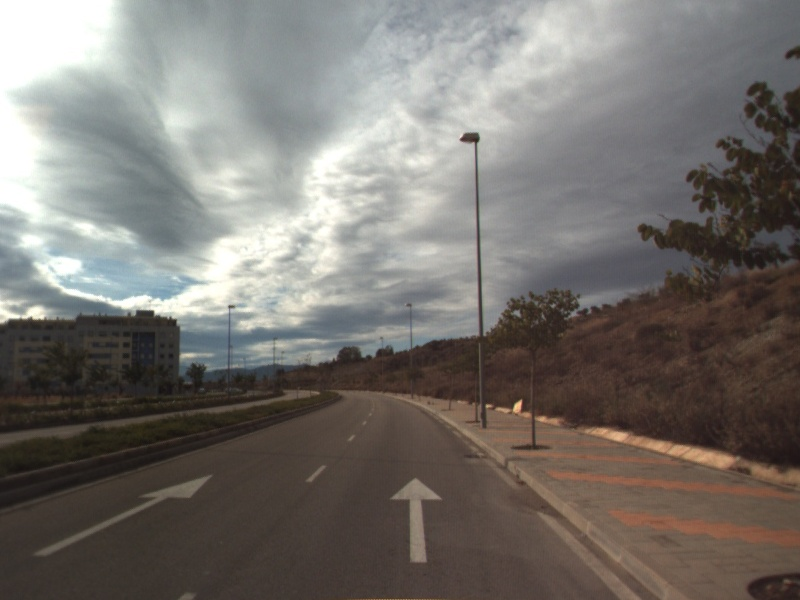STRAIGHT: (31, 473, 215, 559), (387, 475, 445, 565)
